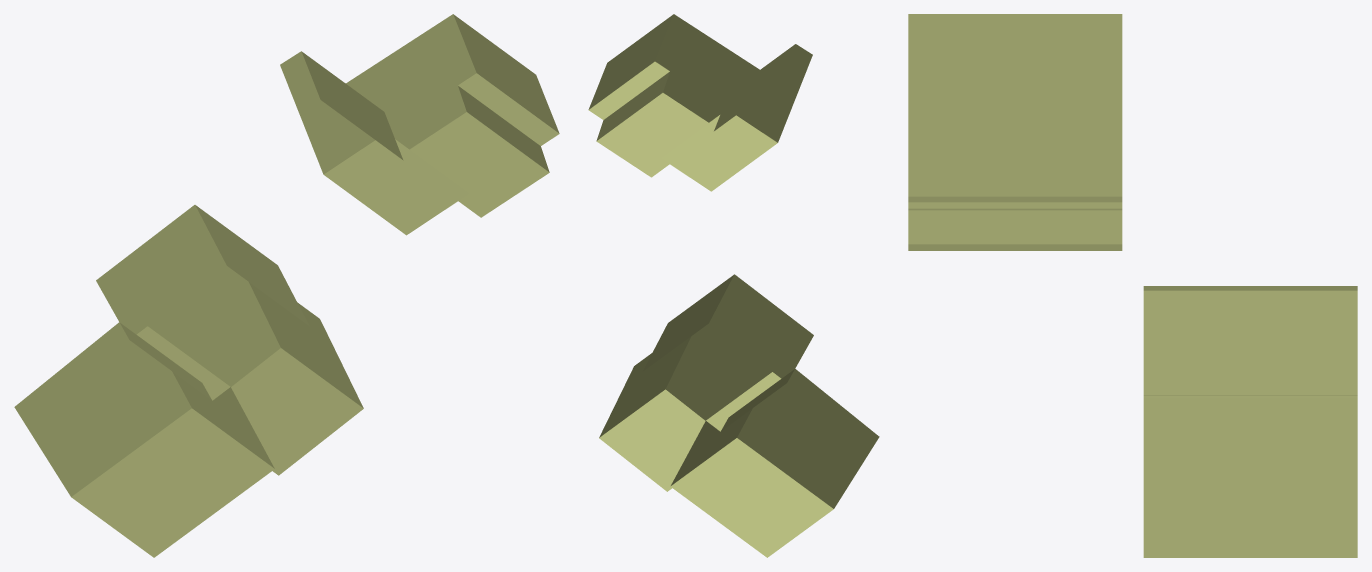
The picture shows the model from 3 angles, left to right: view 1: azimuth 30°, elevation 25°; view 2: azimuth 150°, elevation 25°; view 3: azimuth 270°, elevation 25°; orthographic projection. The views are drawn at different scales.
Parts seen in each view (by area): view 1: 0_0_1_2_0_0_3_0_1; view 2: 0_0_1_2_0_0_3_0_1; view 3: 0_0_1_2_0_0_3_0_1.
Boxes of the visible parts, box(x1,y1,x2,y2) form: 0_0_1_2_0_0_3_0_1: box(14, 14, 559, 557); 0_0_1_2_0_0_3_0_1: box(588, 14, 879, 557); 0_0_1_2_0_0_3_0_1: box(908, 14, 1357, 557).
Size of the model in its own units: 23.23 by 28.66 by 18.9.
